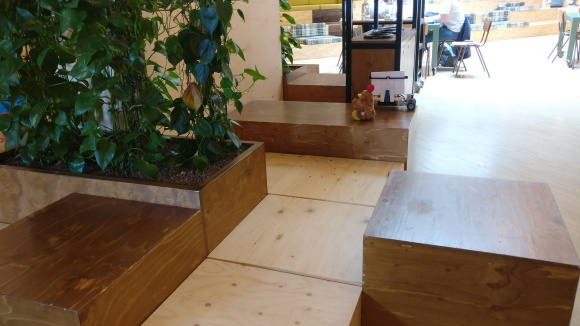car: (365, 71, 417, 114)
chicken: (350, 84, 376, 121)
